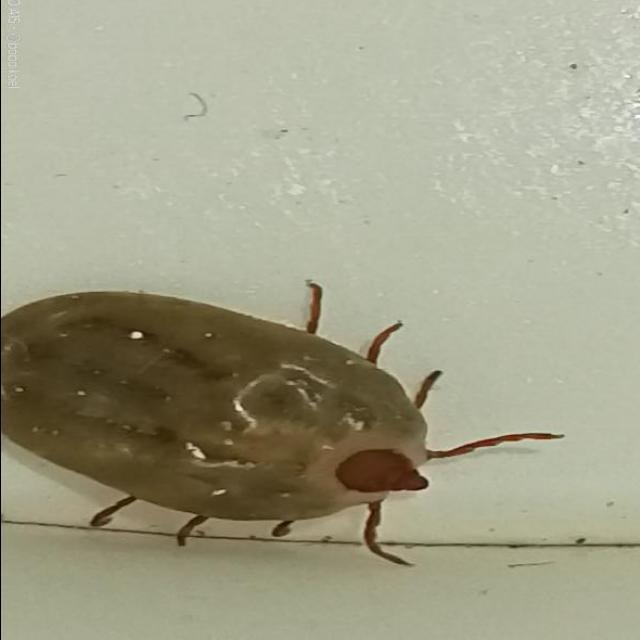Rhipicephalus Sanguineus-F-Fed: (0, 279, 563, 565)
